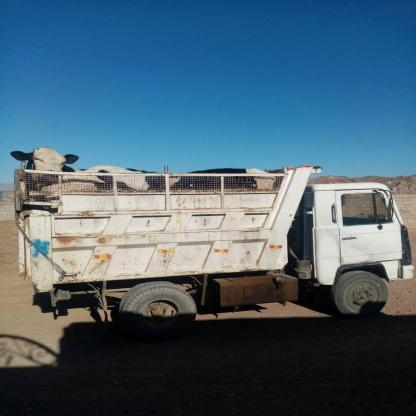Truck: (0, 150, 416, 325)
